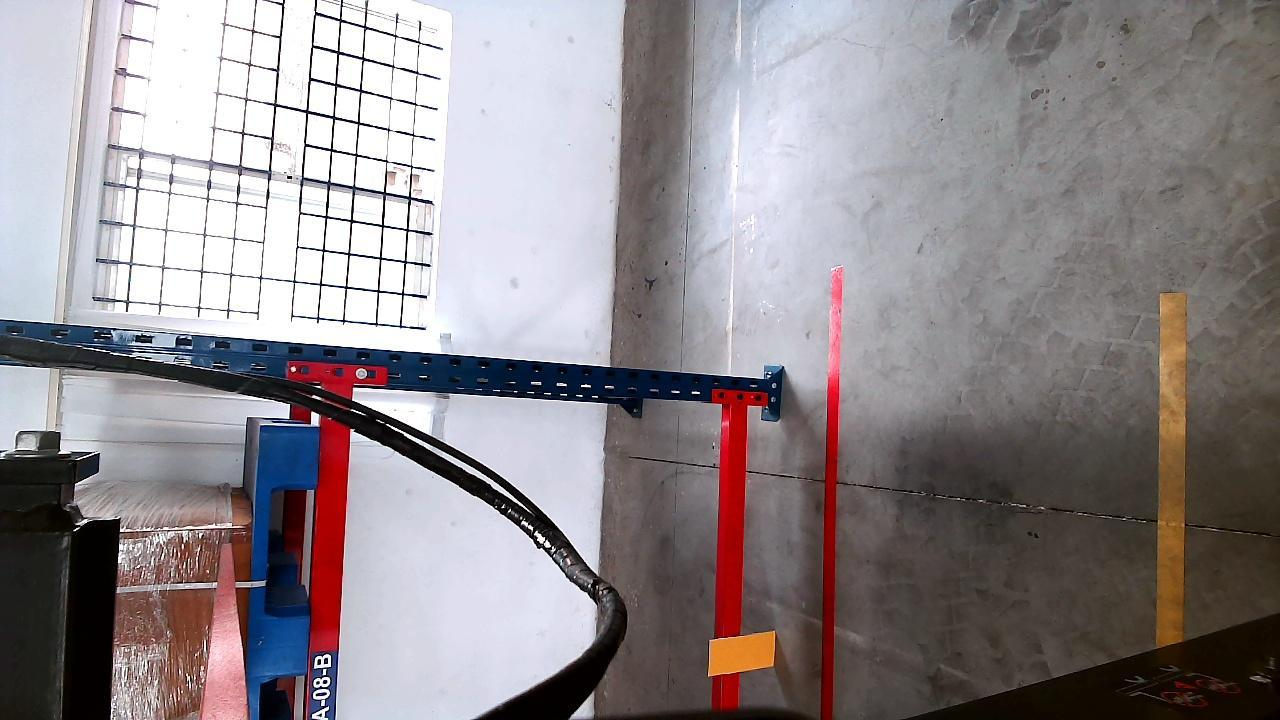red_line: (818, 265, 846, 720)
yellow_line: (1156, 291, 1189, 645)
